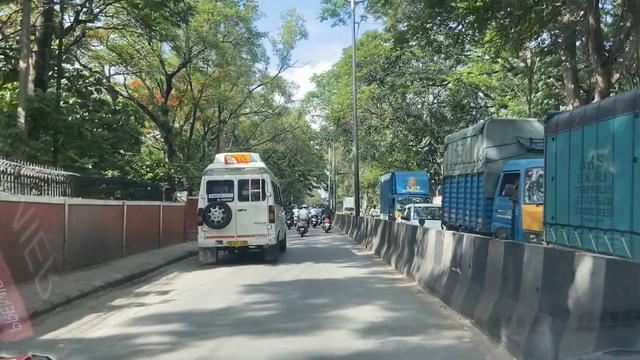HMV: (199, 149, 280, 267)
LMV: (297, 200, 310, 244), (322, 199, 337, 233)
